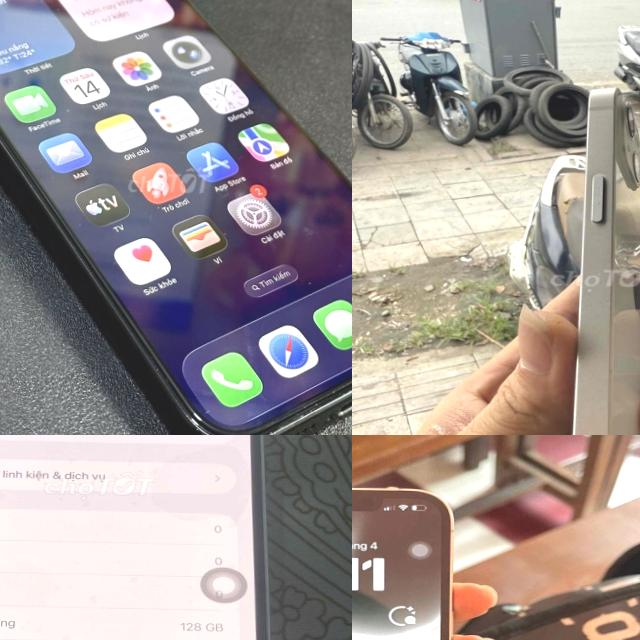gen_12_13: (563, 80, 640, 435), (352, 482, 499, 640)
gen_14: (0, 435, 298, 640)
gen_16: (0, 0, 352, 435)
